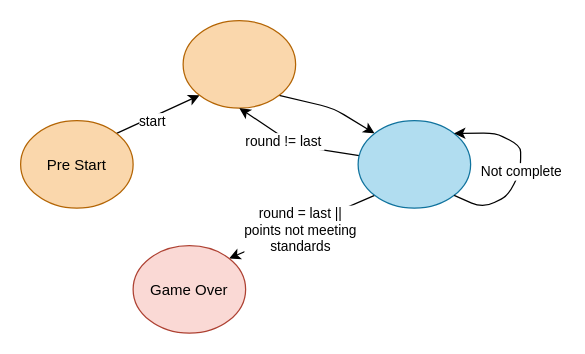
The diagram is 585 pixels wide and 354 high, and some of its shapes have lost their labels. Each missing label, with the box of its shape:
In Round: (357, 119, 471, 208)
Pre Round: (182, 19, 296, 108)
